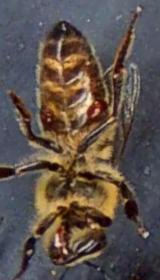varroa_mite: (75, 88, 115, 128), (34, 101, 61, 132)
